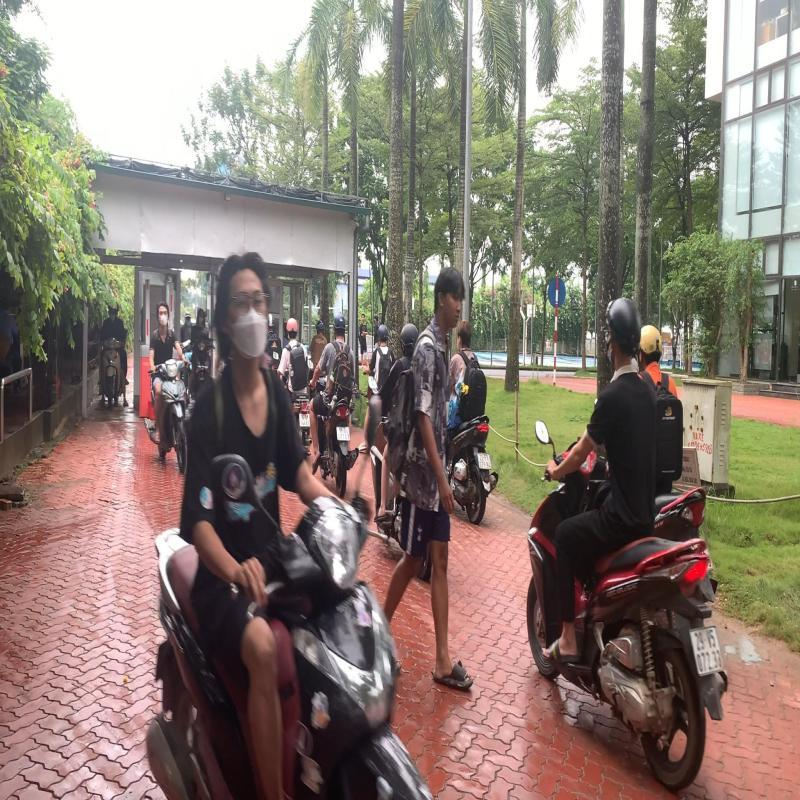nohelmet: (456, 318, 474, 347)
